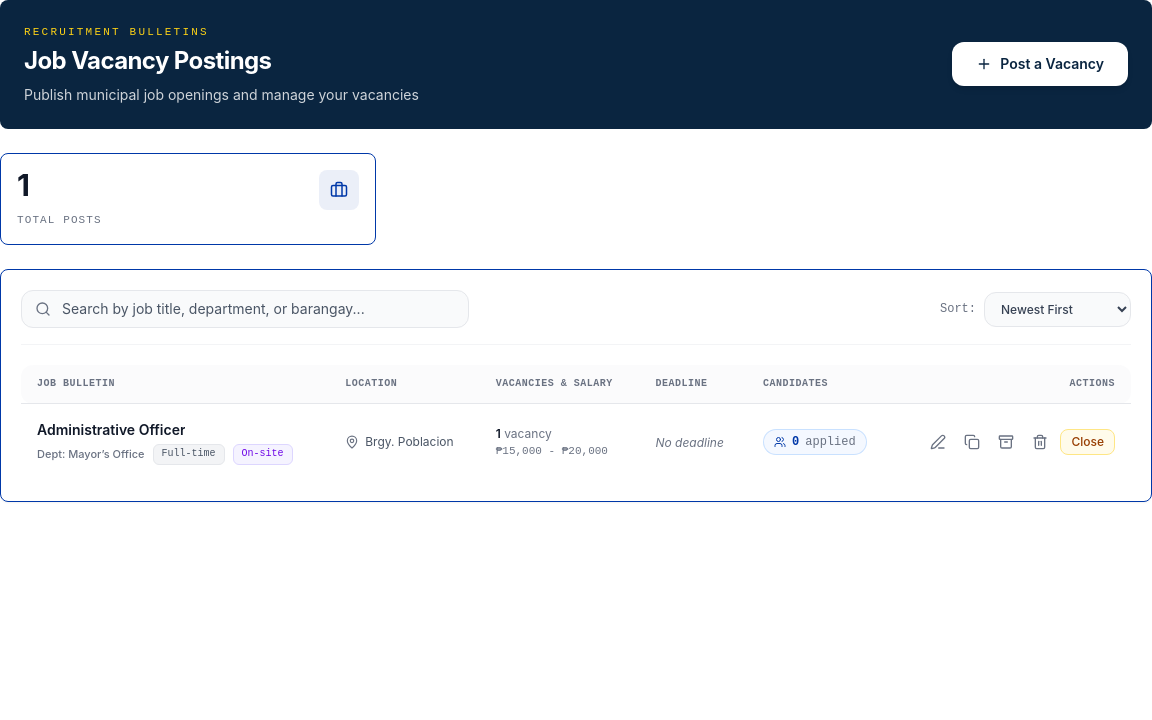
Test case: JobPosts education requirement dropdown › reflects the stored education line when editing a job
Step 1. Click the button titled "Edit Job" → coordinates (938, 442), box [924,428,952,456]
(page scrolled)
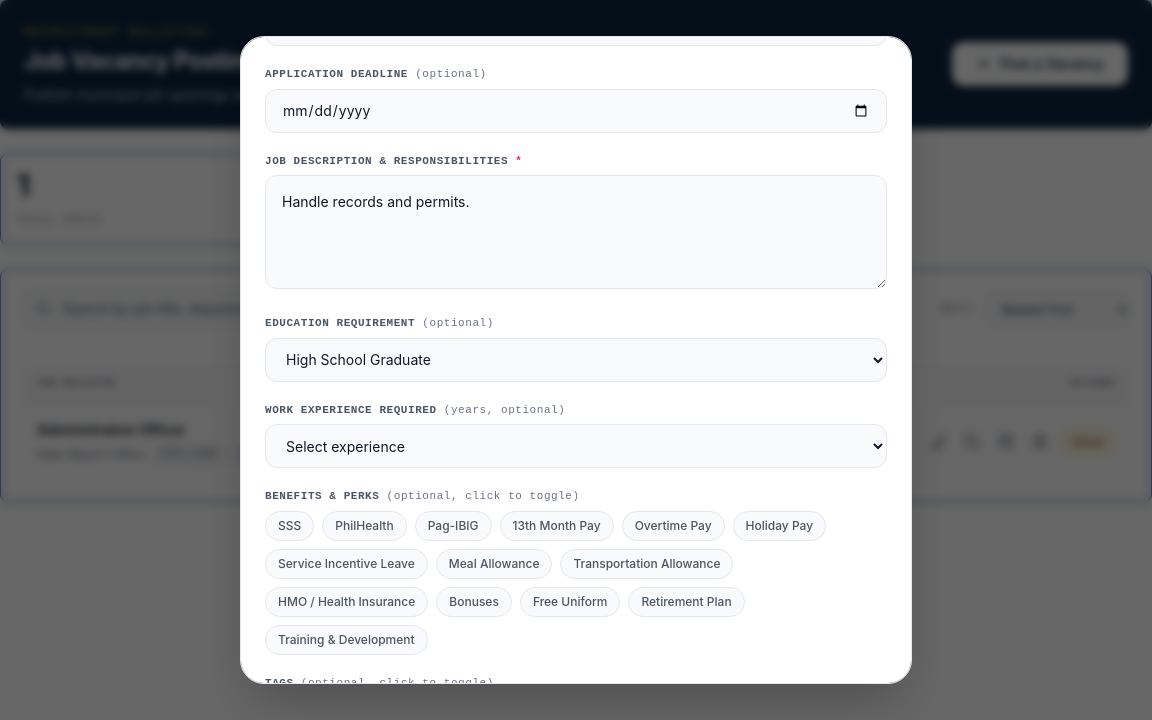
Result: the dropdown labelled "Education Requirement (optional)" shows "High School Graduate" at [265,338,887,382]
